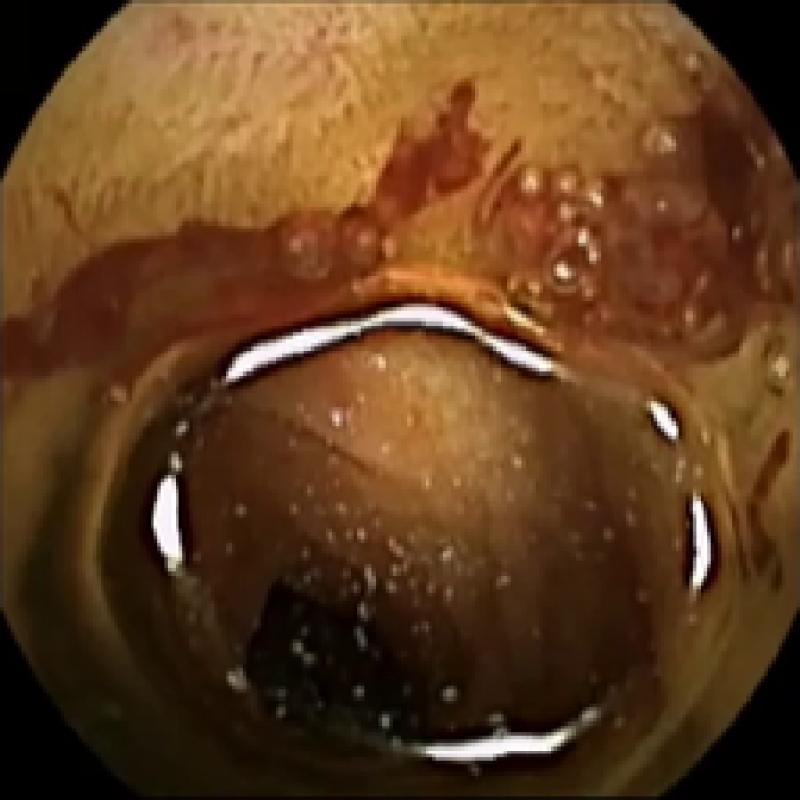bleeding: (0, 71, 489, 374), (494, 102, 792, 364), (744, 421, 796, 596)
